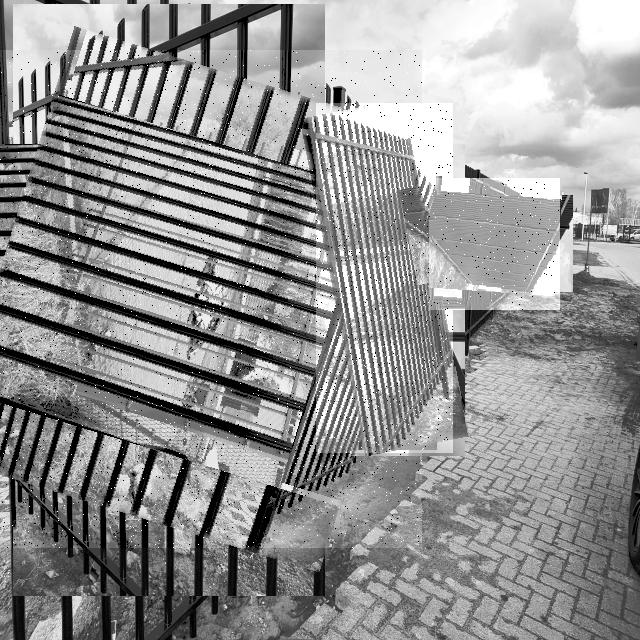fences: (0, 50, 422, 548), (316, 103, 453, 453), (429, 178, 560, 310)
